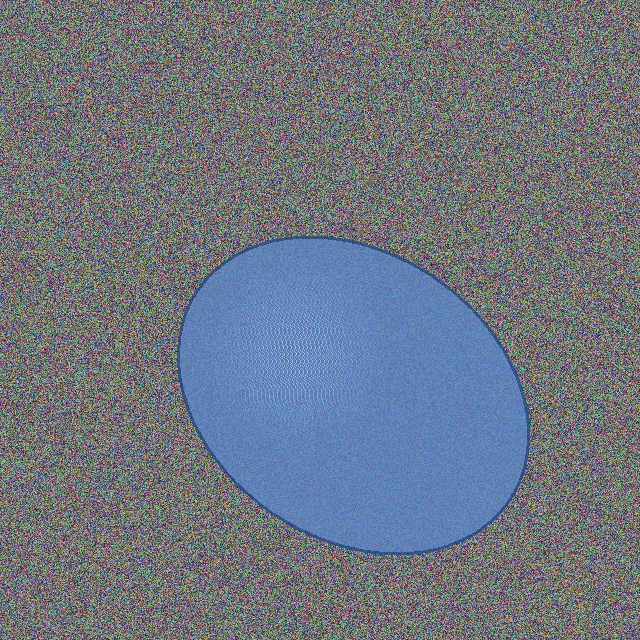lens: (178, 237, 528, 553)
